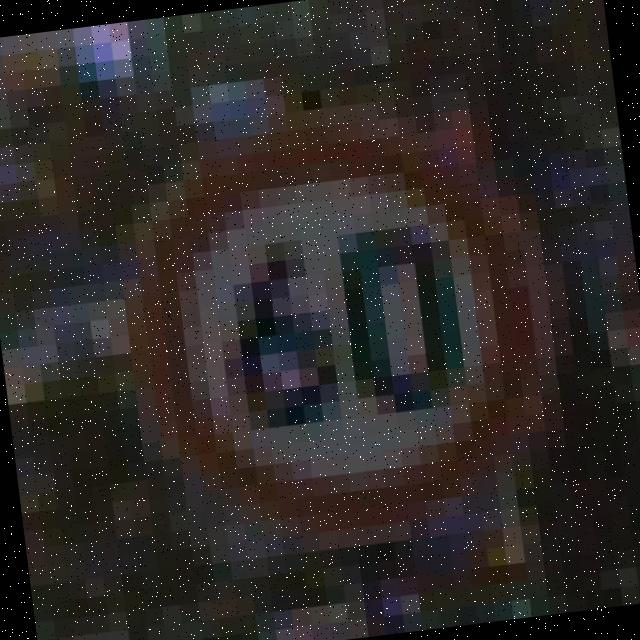Ograniczenie predkosci do 60: (115, 105, 554, 548)
